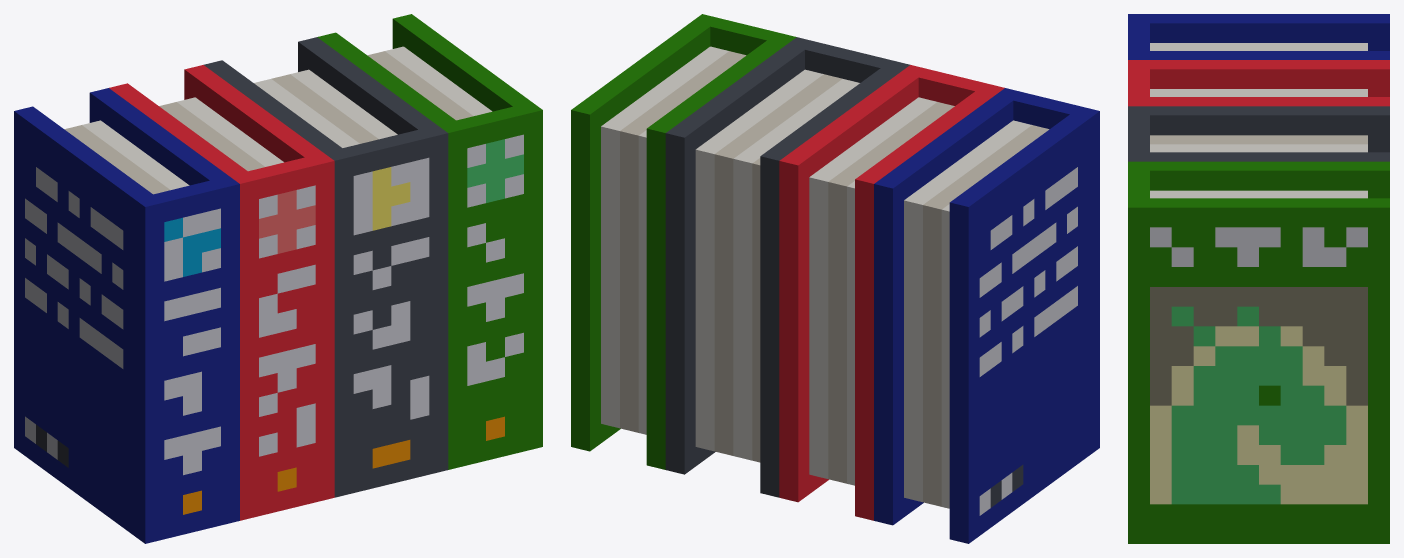
File: dragon_books.glb
3 views of the same model, side by side, from view 1: azimuth 30°, elevation 25°; view 2: azimuth 150°, elevation 25°; view 3: azimuth 270°, elevation 25° (orthographic).
Parts seen in each view (by area): view 1: model; view 2: model; view 3: model.
Boxes of the visible parts, x1,y1,x2,y2 form: model: (14, 14, 542, 543); model: (571, 14, 1099, 543); model: (1128, 14, 1389, 543).
Bounding box in the file's own units: 2.1 × 1.7 × 1.2.
